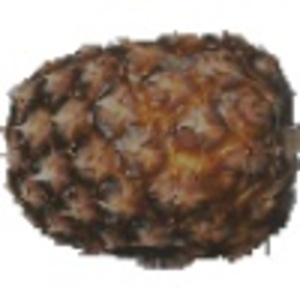abacaxi: (4, 29, 296, 253)
